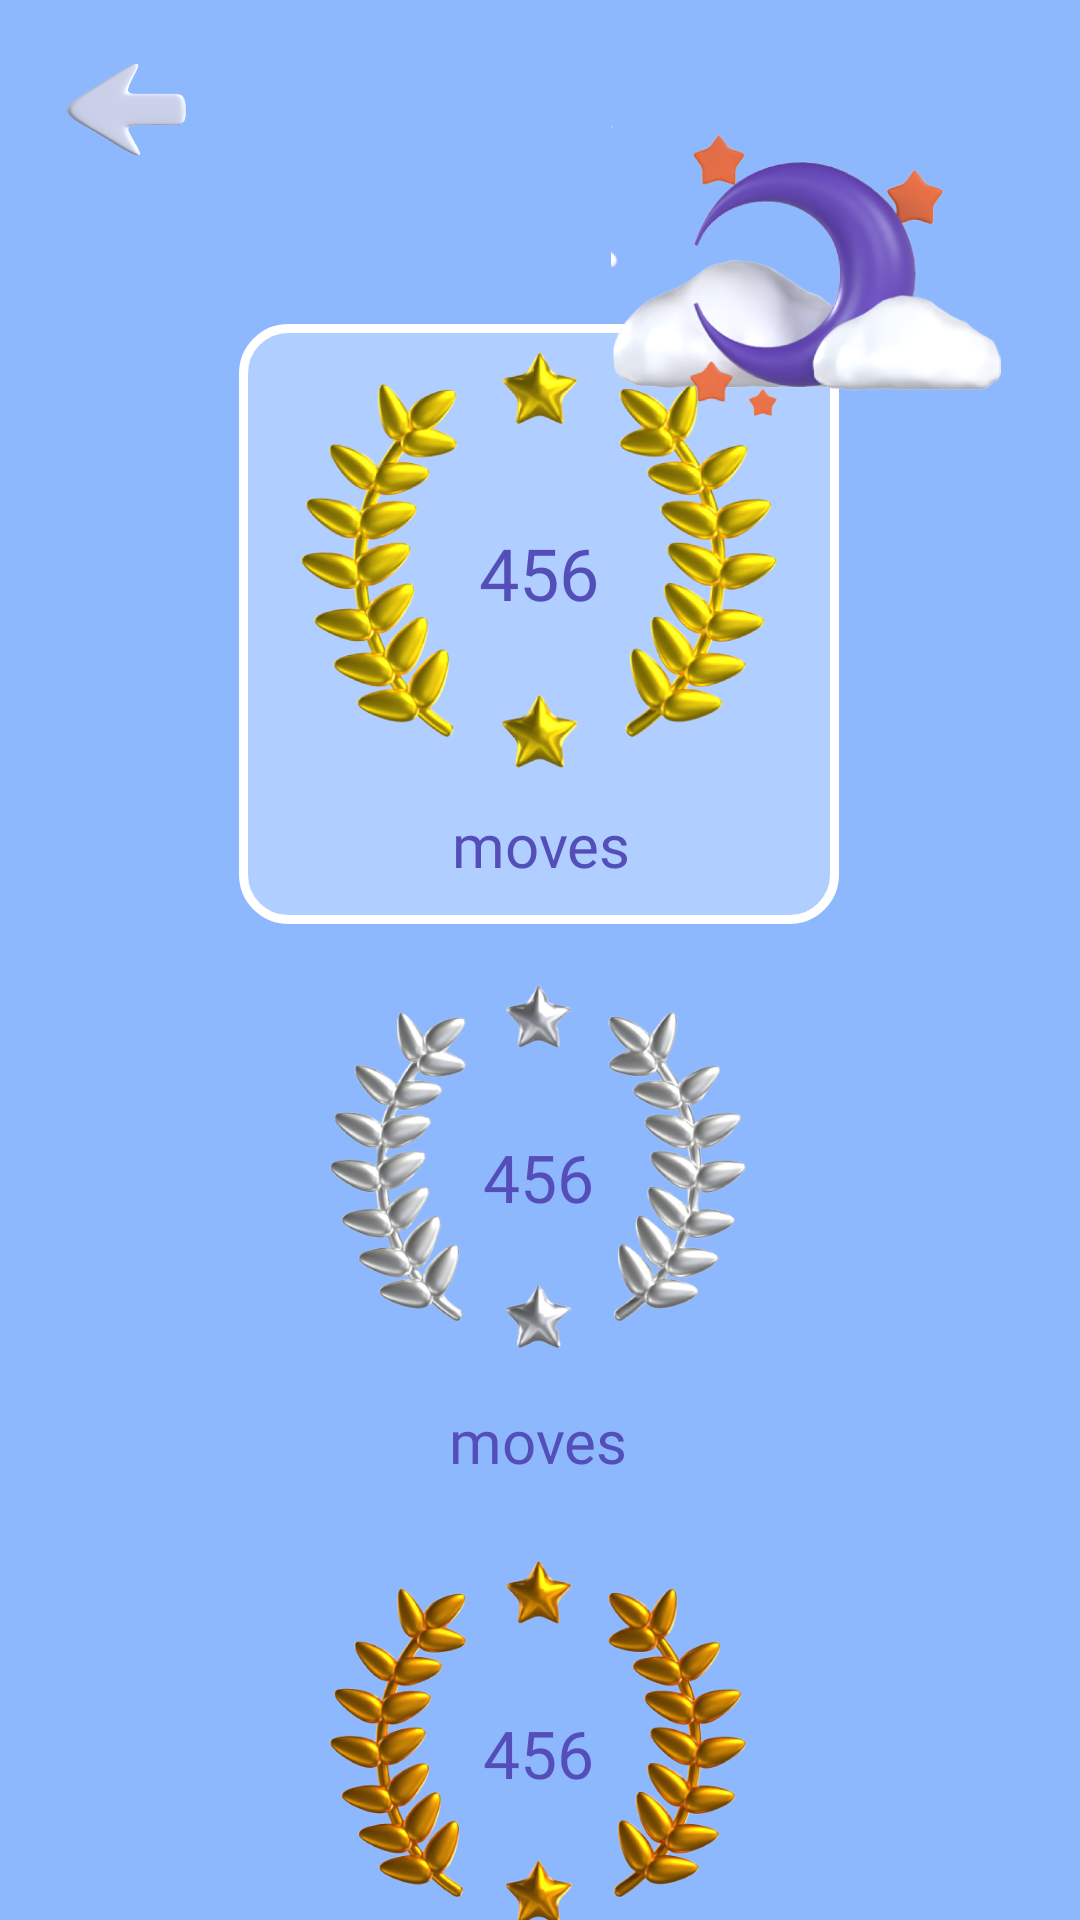

Screen size 1080 × 1920. Icon name, then its box in pixels as (x1=x1, y1=y1, x2=x2, y2=y2):
back: (x1=67, y1=64, x2=186, y2=156)
